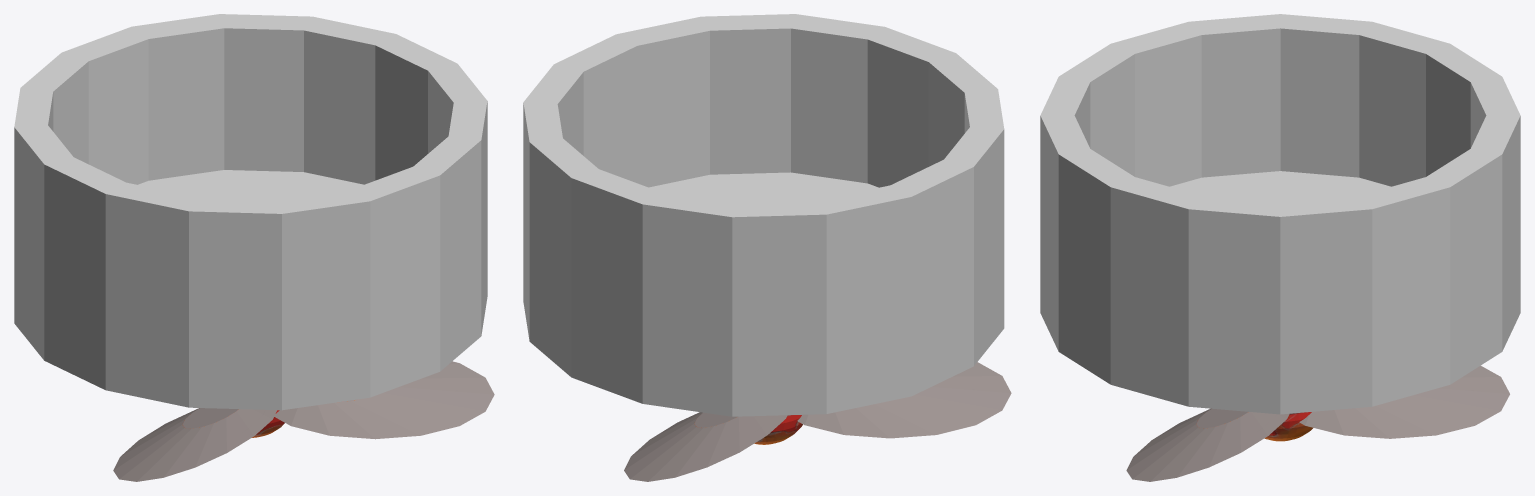
The model's file is Fan.fbx.
3 views of the same model, side by side, from view 1: azimuth 30°, elevation 25°; view 2: azimuth 150°, elevation 25°; view 3: azimuth 270°, elevation 25° (orthographic).
Parts seen in each view (by area): view 1: Cylinder, Sphere; view 2: Cylinder, Sphere; view 3: Cylinder, Sphere.
Boxes of the visible parts, left/top/right/bottom form: Cylinder: left=14, top=14, right=487, bottom=410; Sphere: left=113, top=361, right=494, bottom=481; Cylinder: left=523, top=14, right=1004, bottom=416; Sphere: left=624, top=362, right=1011, bottom=481; Cylinder: left=1040, top=14, right=1520, bottom=414; Sphere: left=1126, top=365, right=1509, bottom=481.
Size of the model in its own units: 200 by 148 by 200.
